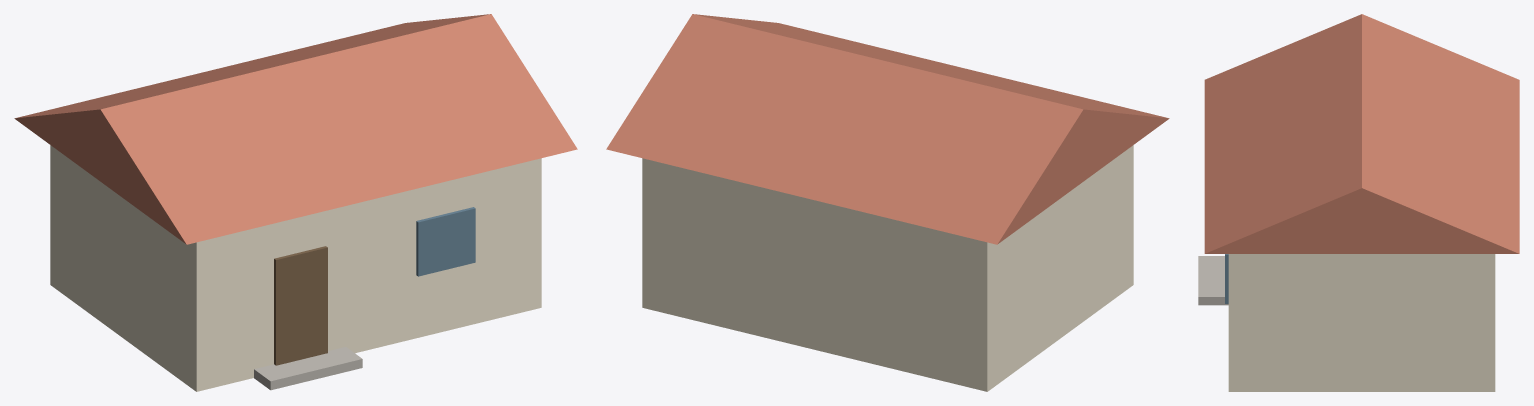
File: house-a.glb
3 renders of one model, left to right at view 1: azimuth 30°, elevation 25°; view 2: azimuth 150°, elevation 25°; view 3: azimuth 270°, elevation 25°, orthographic. The views are drawn at different scales.
Parts seen in each view (by area): view 1: r, b, d, w, s; view 2: b, r; view 3: r, b, s.
Part boxes in pixels (<box>): r: <box>14,14,577,244</box>; b: <box>50,145,541,391</box>; d: <box>274,246,327,365</box>; w: <box>416,207,475,276</box>; s: <box>254,347,362,390</box>; b: <box>642,145,1133,391</box>; r: <box>606,14,1169,244</box>; r: <box>1204,14,1519,253</box>; b: <box>1228,254,1495,391</box>; s: <box>1198,256,1228,305</box>.
Size of the model in its own units: 6.8 by 3.91 by 5.3.
